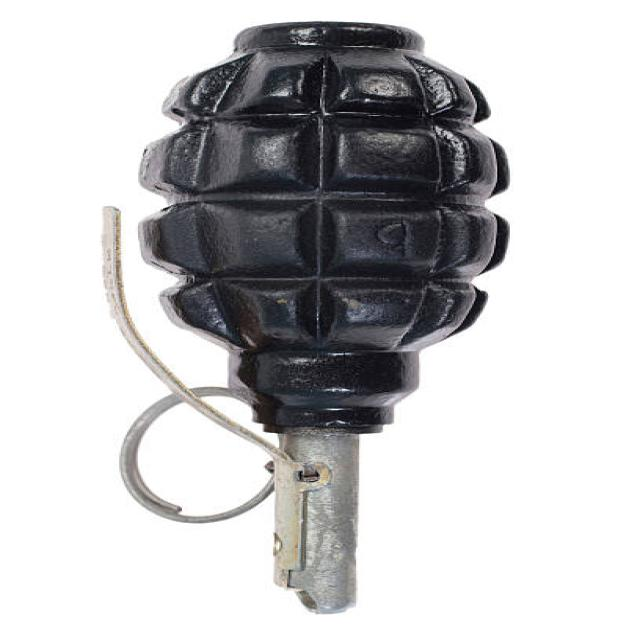grenade: (90, 13, 549, 626)
